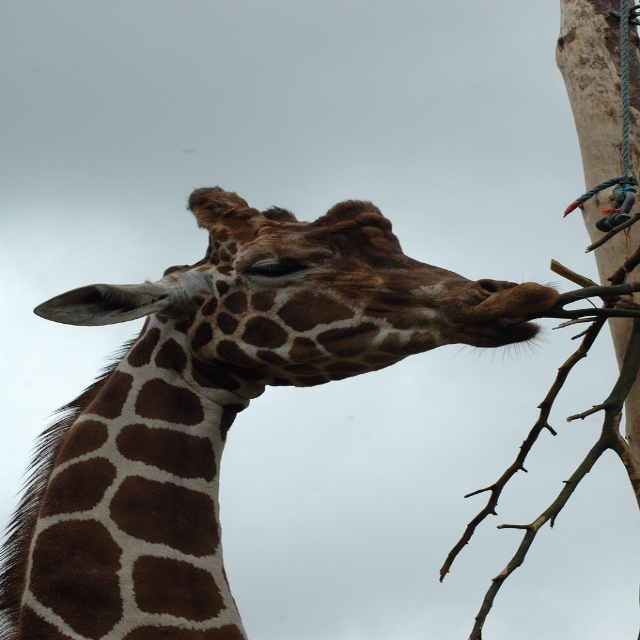Giraffe: (0, 181, 558, 640)
